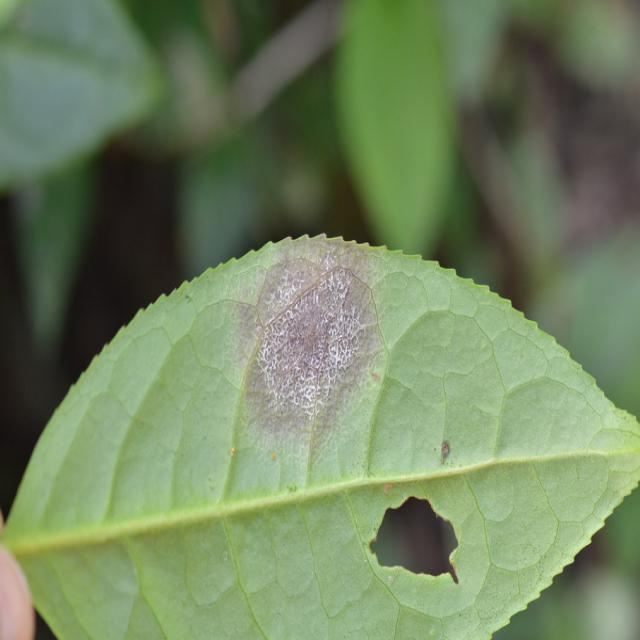Tea exobasidium blight: (235, 240, 384, 438)
